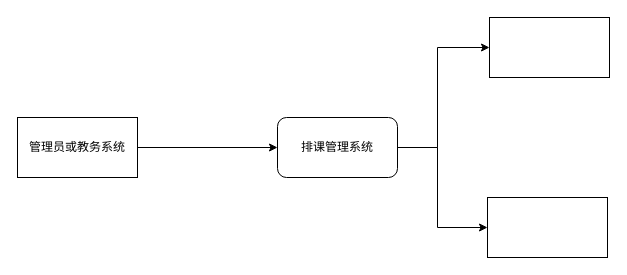
The diagram is 627 pixels wide and 275 high, and some of its shapes have lost their labels. The shapes that lost their labels are listed below. From the top down, each one's box as (x1, y1, x2, y2) in pixels, then its label:
(488, 16, 610, 78): 教师
(486, 196, 608, 258): 学生
